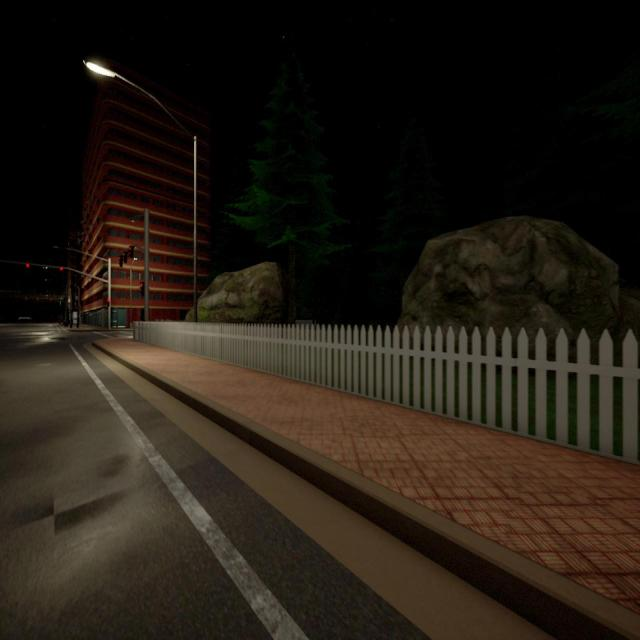traffic_light: (128, 246, 134, 258), (122, 252, 128, 263), (140, 282, 144, 297), (118, 255, 123, 267), (106, 298, 110, 307), (26, 263, 29, 267), (60, 266, 63, 270), (49, 298, 52, 301), (26, 298, 28, 300), (36, 298, 38, 300)
